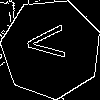V: (26, 23, 75, 61)
